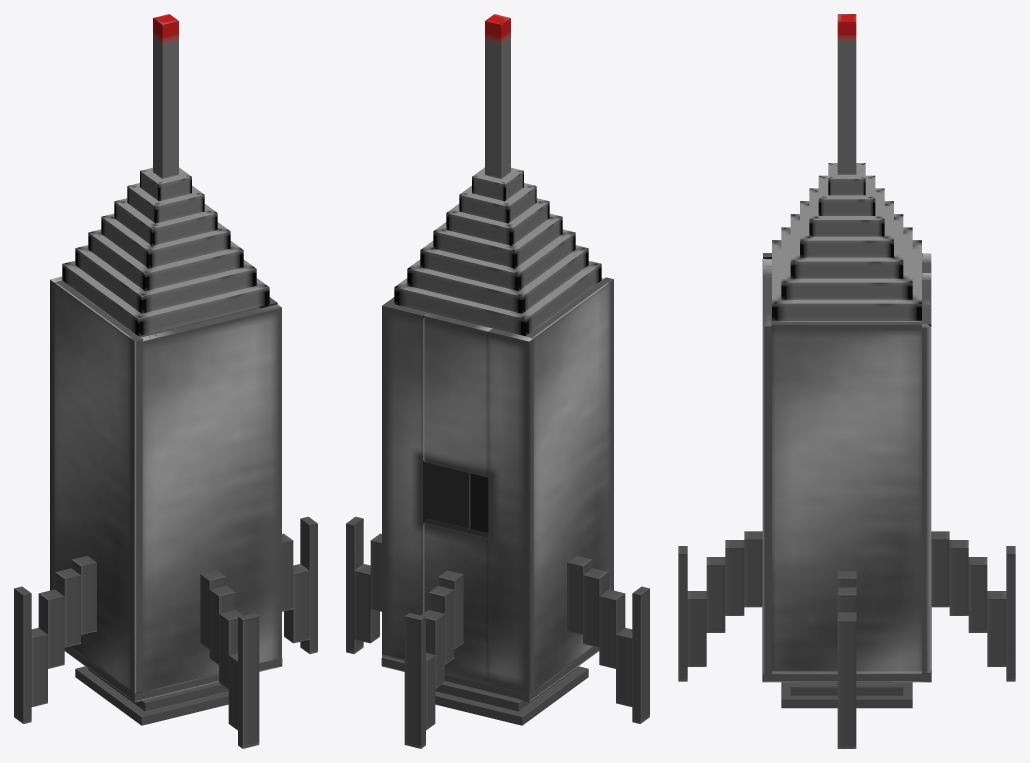
File: tier_1_rocket.obj
The picture shows the model from 3 angles, left to right: view 1: azimuth 30°, elevation 25°; view 2: azimuth 150°, elevation 25°; view 3: azimuth 270°, elevation 25°; orthographic projection.
Parts seen in each view (by area): view 1: Rocket; view 2: Rocket; view 3: Rocket.
Boxes of the visible parts, <box> form: Rocket: <box>14,14,317,748</box>; Rocket: <box>346,14,649,748</box>; Rocket: <box>678,14,1015,748</box>.
Bounding box in the file's own units: 3.59 × 7.78 × 3.59.
